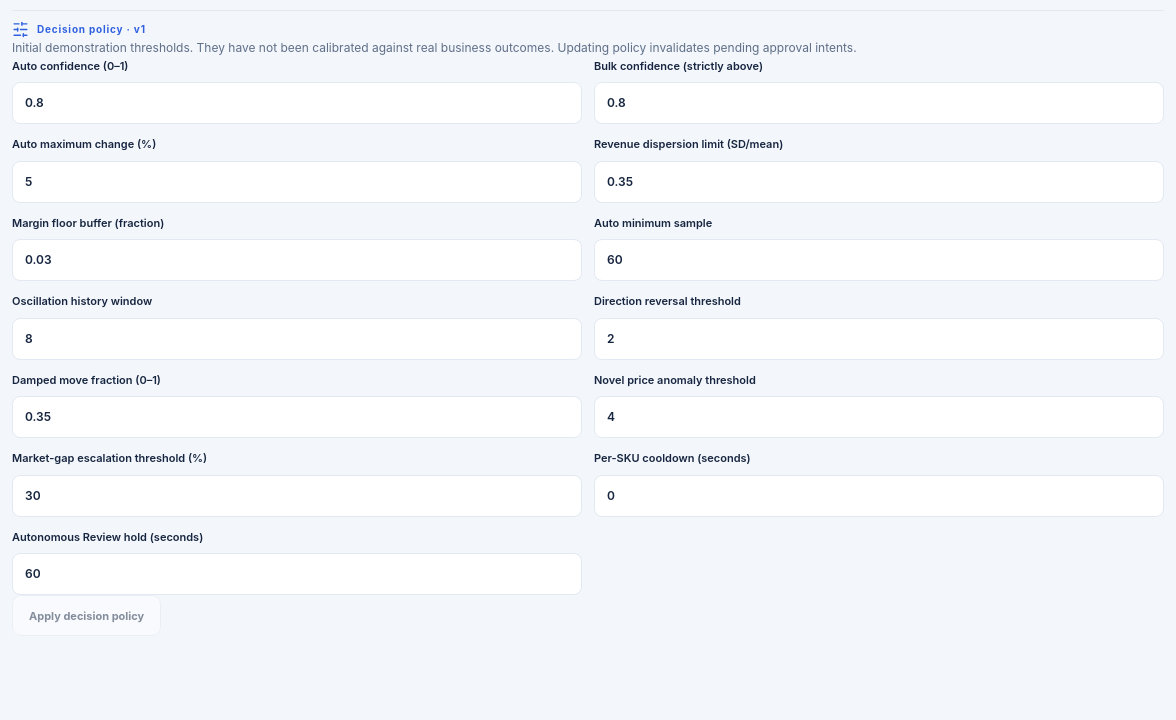
Test: pending policy updates freeze the submitted draft and a failed request retains it for retry
The width and height of the screenshot is (1176, 720).
Replace the text in the number field labelled "Market-gap escalation threshold (%)" with "25" at (297, 496), box [12, 475, 582, 517]
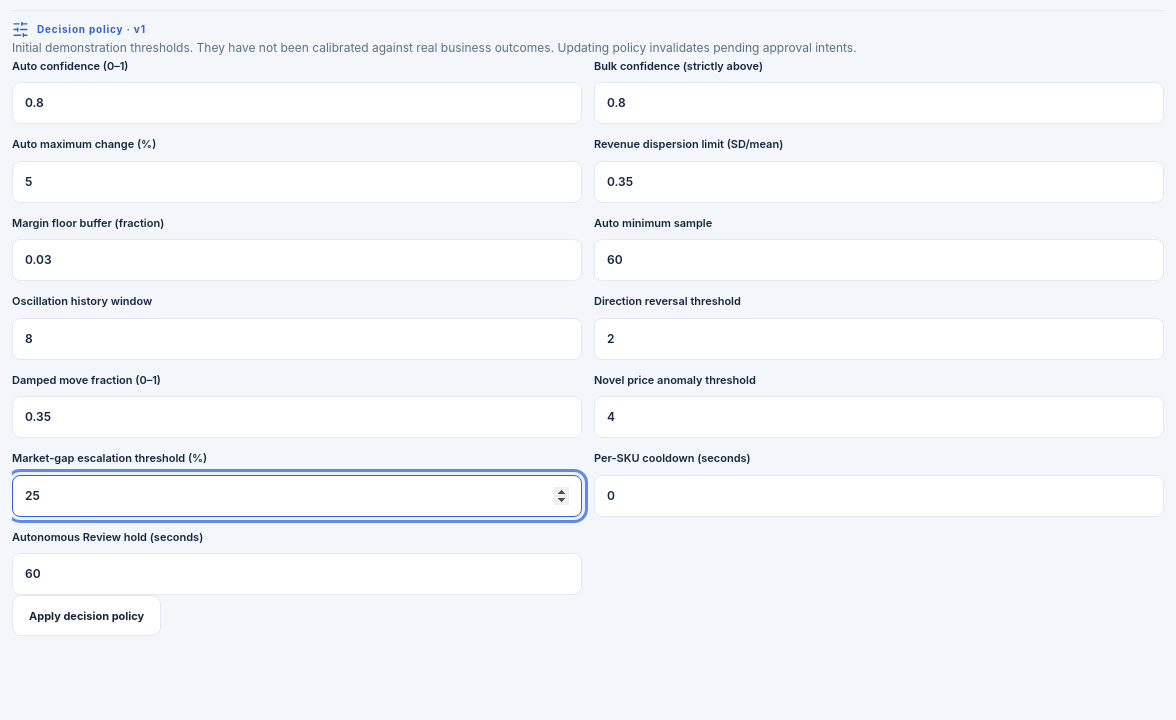
Click the button "Apply decision policy".
click(87, 616)  # box [12, 595, 161, 636]
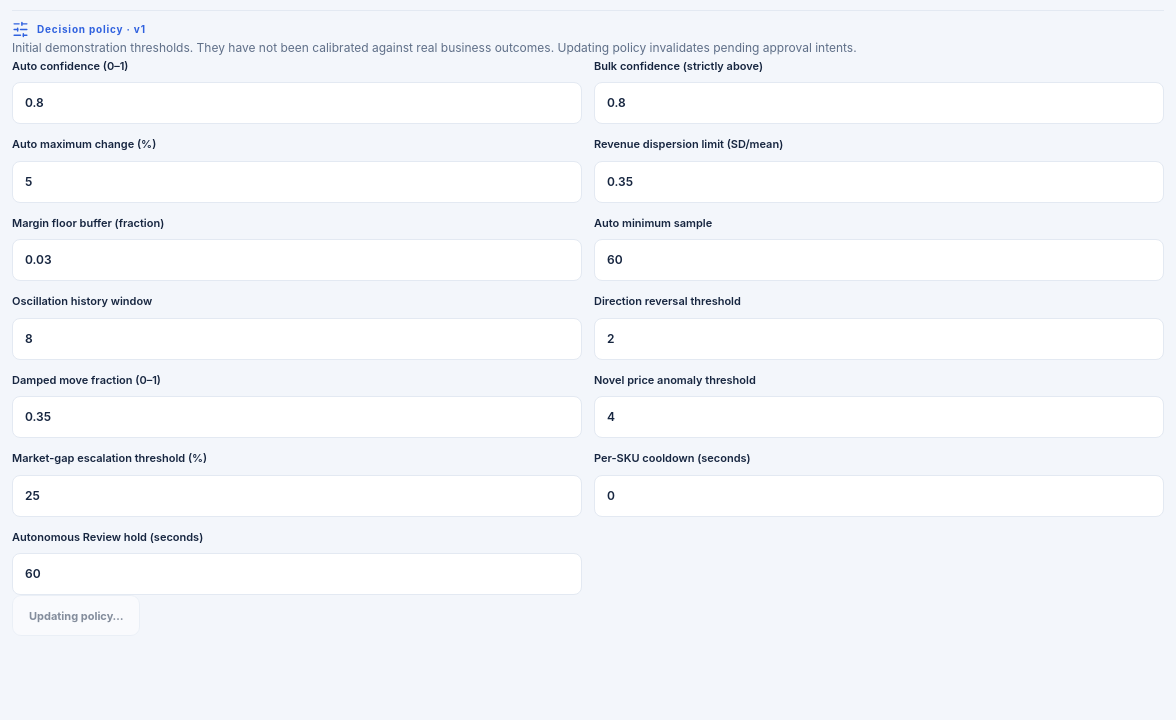
Type "9" into the number field labelled "Market-gap escalation threshold (%)".
click(297, 496); type("9")  # box [12, 475, 582, 517]
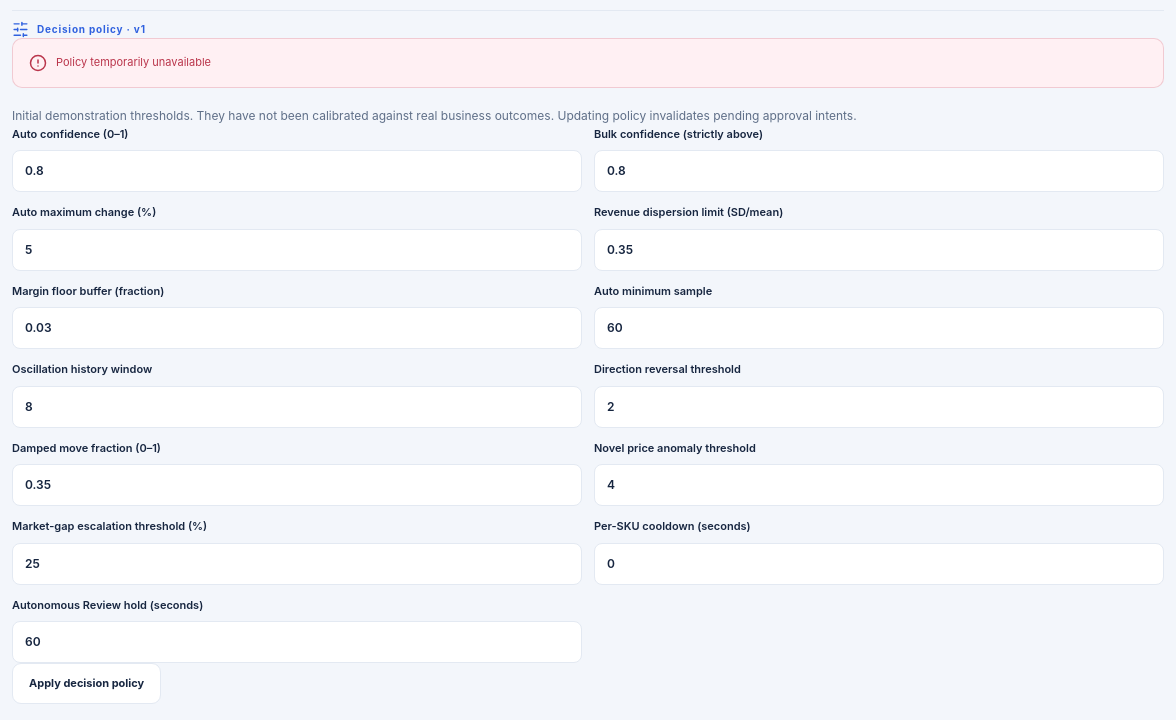
Expected: the text "Policy version updated" is not shown
Result: the text "Policy temporarily unavailable" is shown at [56, 53, 211, 73]
Replace the text in the number field labelled "Market-gap escalation threshold (%)" with "24" at (297, 564), box [12, 543, 582, 585]
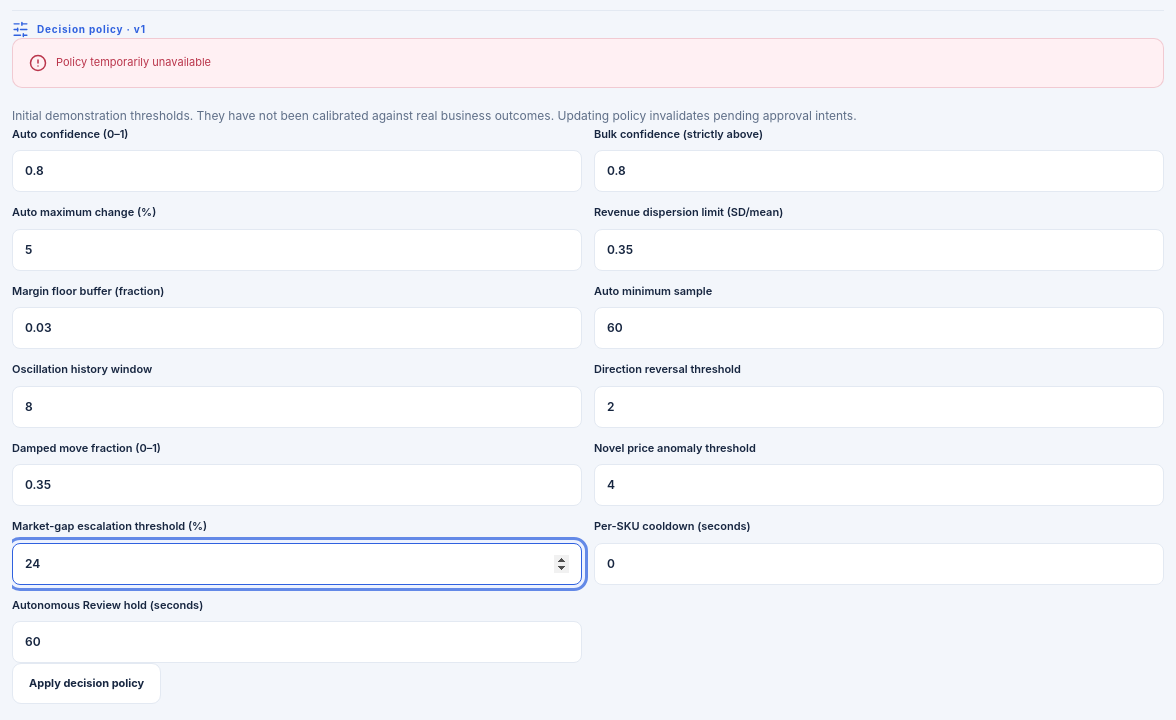
Click the button "Apply decision policy".
click(87, 684)  # box [12, 663, 161, 704]
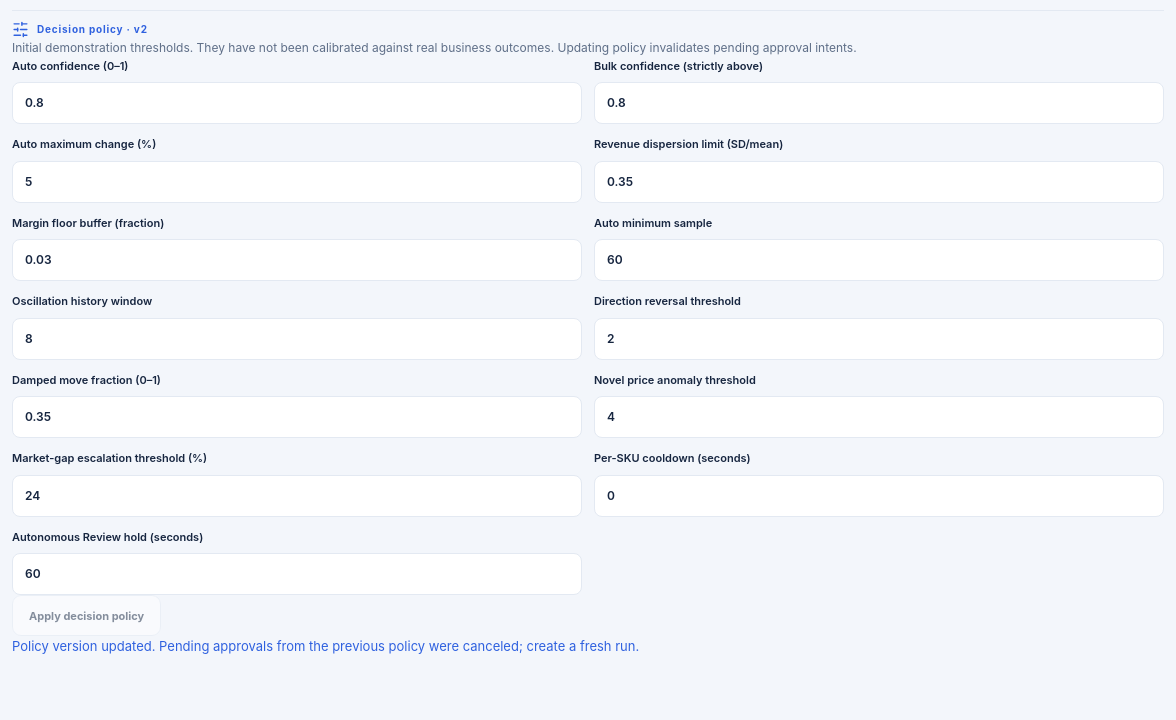
Result: the text "Policy version updated" is shown at [12, 638, 639, 654]
